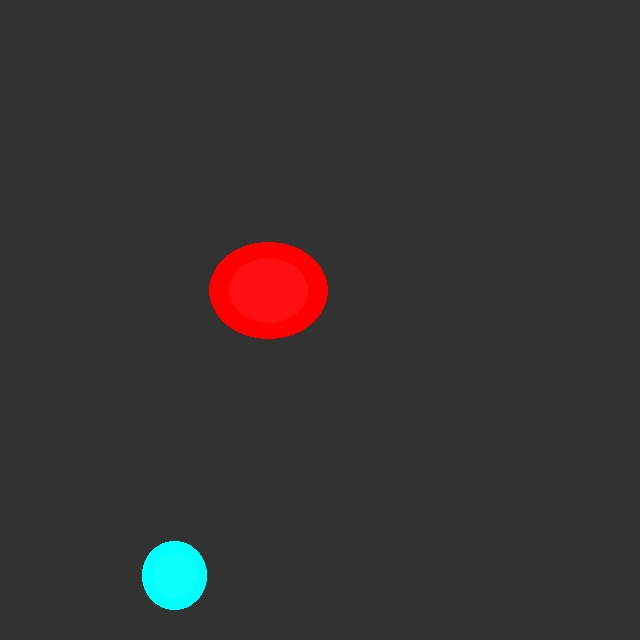fish: (209, 242, 327, 338), (142, 541, 206, 609)
